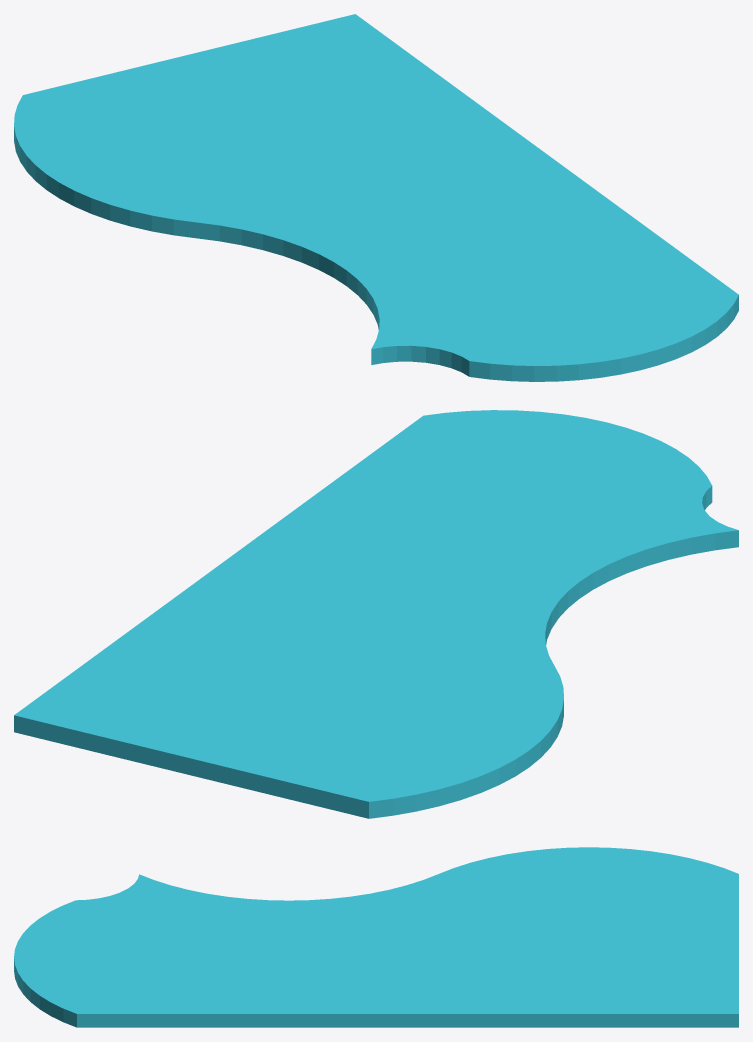
The picture shows the model from 3 angles, top to bottom: view 1: azimuth 30°, elevation 25°; view 2: azimuth 150°, elevation 25°; view 3: azimuth 270°, elevation 25°; orthographic projection. The views are drawn at different scales.
Visible parts, largest first — view 1: deur; view 2: deur; view 3: deur.
Boxes of the visible parts, x1,y1,x2,y2 form: deur: [14, 14, 738, 381]; deur: [14, 410, 738, 818]; deur: [14, 847, 738, 1027].
Bounding box in the file's own units: 0.469 × 0.018 × 0.862.
